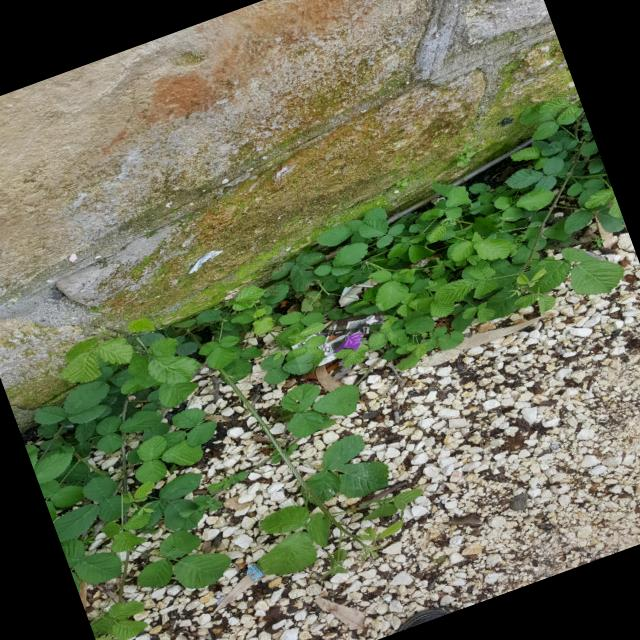Other plastic: (291, 313, 386, 366), (337, 279, 374, 308), (246, 565, 264, 580), (411, 261, 427, 267)
Unlabeled litter: (189, 250, 223, 273)
